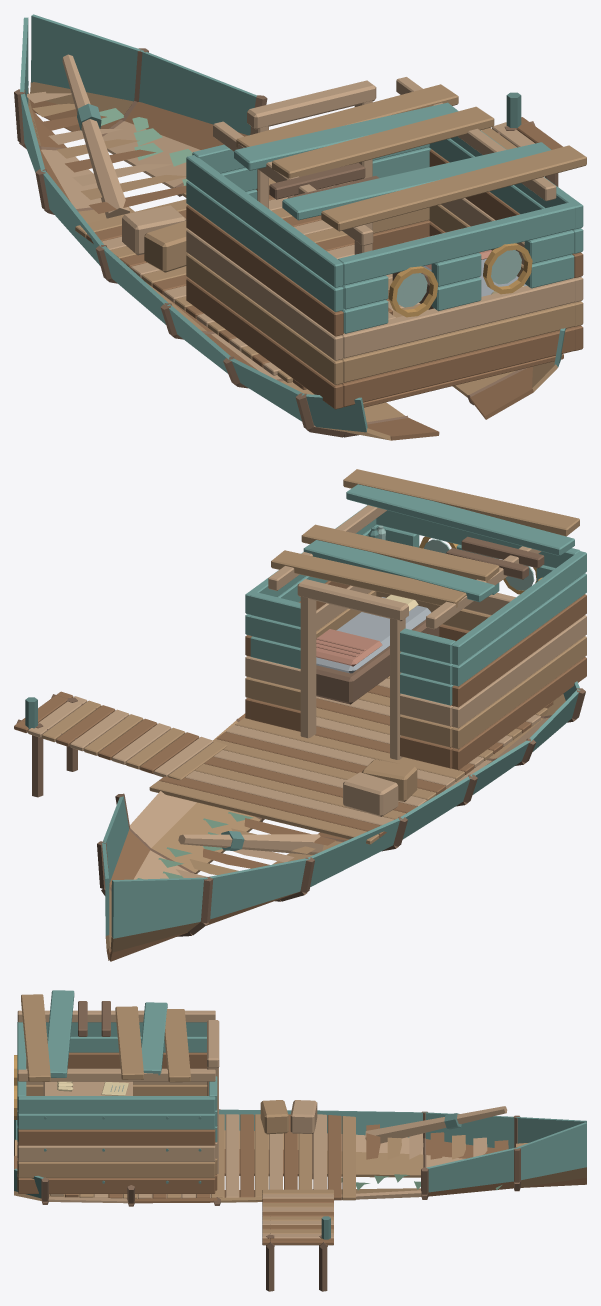
Rendered from epave_ravitailleur.glb.
3 renders of one model, top to bottom at view 1: azimuth 30°, elevation 25°; view 2: azimuth 150°, elevation 25°; view 3: azimuth 270°, elevation 25°, orthographic. The views are drawn at different scales.
Visible parts, largest first — view 1: Traverse de poupe.009, Planche de toit, Traverse de poupe.002, Bordage.037, Traverse de poupe.001, Traverse de poupe, Bordage.034, Planche de toit.002, Bordé de la cabine.005, Planche de toit.001, Bordé de la cabine.004, Bordé de la cabine.003 (+57 smaller); view 2: Bordage.020, Planche de toit.001, Planche de toit, Planche de toit.004, Bordé de la cabine.005, Bordage.017, Planche de toit.002, Planche de toit.003, Bordé de la cabine.002, Bordé de la cabine.003, Bordé de la cabine.004, Bordé de la cabine.001 (+67 smaller); view 3: Bordé de la cabine.011, Bordé de la cabine.009, Bordé de la cabine.008, Bordé de la cabine.010, Bordé de la cabine.007, Bordé de la cabine.006, Bordage.037, Bordage.034, Planche de toit, Planche de toit.001, Planche de toit.002, Bordage.017 (+41 smaller).
Part boxes in pixels (bbox=[...]): Traverse de poupe.009: bbox=[338, 202, 575, 285]; Planche de toit: bbox=[321, 145, 586, 231]; Traverse de poupe.002: bbox=[341, 278, 575, 358]; Bordage.037: bbox=[31, 14, 142, 101]; Traverse de poupe.001: bbox=[341, 302, 575, 382]; Traverse de poupe: bbox=[341, 327, 575, 406]; Bordage.034: bbox=[139, 50, 256, 135]; Planche de toit.002: bbox=[272, 106, 494, 178]; Bordé de la cabine.005: bbox=[186, 155, 343, 287]; Planche de toit.001: bbox=[282, 142, 550, 220]; Bordé de la cabine.004: bbox=[186, 180, 343, 311]; Bordé de la cabine.003: bbox=[186, 205, 343, 336]; Bordage.020: bbox=[111, 877, 207, 938]; Planche de toit.001: bbox=[346, 484, 574, 555]; Planche de toit: bbox=[343, 469, 579, 536]; Planche de toit.004: bbox=[271, 550, 466, 607]; Bordé de la cabine.005: bbox=[451, 551, 586, 665]; Bordage.017: bbox=[206, 858, 309, 919]; Planche de toit.002: bbox=[301, 524, 499, 582]; Planche de toit.003: bbox=[303, 540, 494, 602]; Bordé de la cabine.002: bbox=[451, 615, 586, 728]; Bordé de la cabine.003: bbox=[451, 594, 586, 707]; Bordé de la cabine.004: bbox=[451, 573, 586, 686]; Bordé de la cabine.001: bbox=[452, 636, 586, 749]; Bordé de la cabine.011: bbox=[18, 1096, 215, 1113]; Bordé de la cabine.009: bbox=[18, 1129, 215, 1145]; Bordé de la cabine.008: bbox=[18, 1145, 215, 1161]; Bordé de la cabine.010: bbox=[18, 1113, 215, 1129]; Bordé de la cabine.007: bbox=[18, 1161, 215, 1177]; Bordé de la cabine.006: bbox=[18, 1177, 215, 1193]; Bordage.037: bbox=[517, 1122, 586, 1180]; Bordage.034: bbox=[426, 1147, 516, 1192]; Planche de toit: bbox=[21, 994, 50, 1081]; Planche de toit.001: bbox=[47, 990, 74, 1077]; Planche de toit.002: bbox=[115, 1006, 143, 1079]; Bordage.017: bbox=[425, 1112, 516, 1148].
Size of the model in its own units: 6.65 by 3.52 by 10.99.
